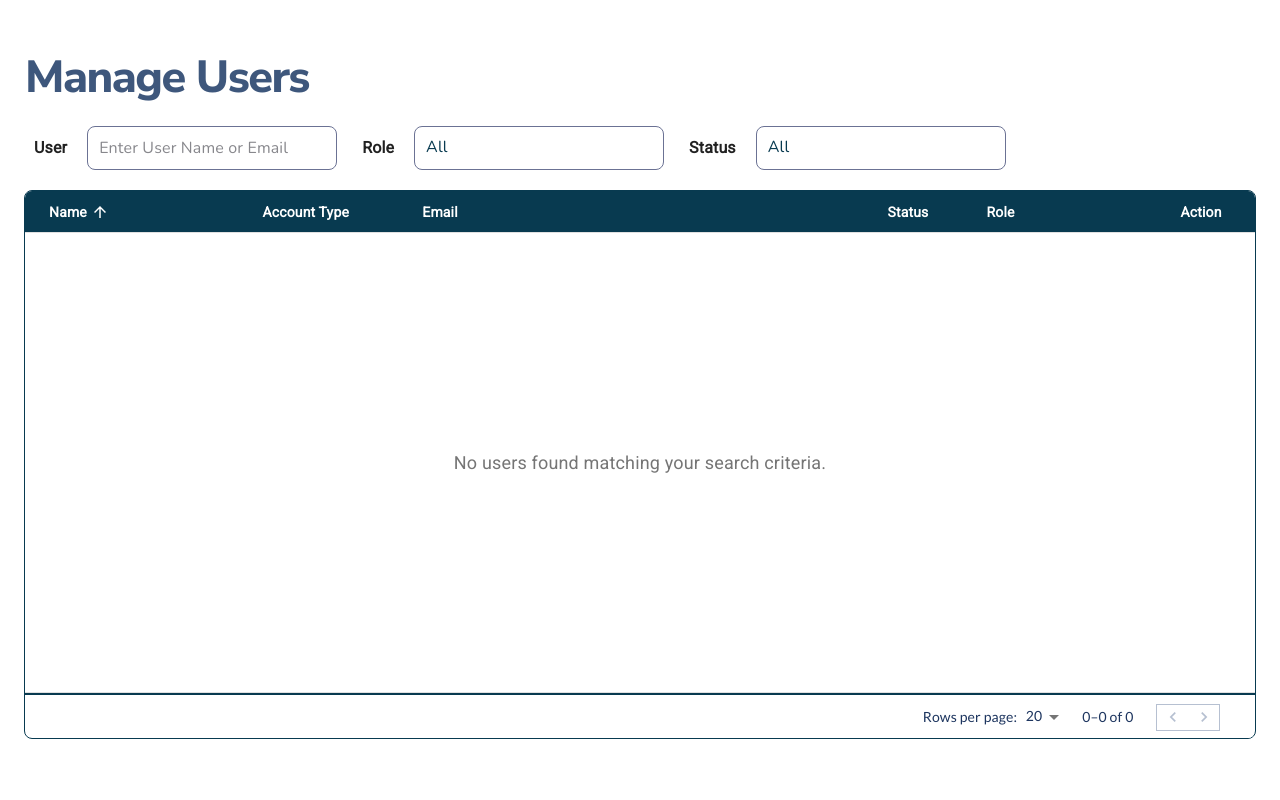
Test: Implementation Requirements › should not filter until at least 3 characters are entered
Type "Us" into the field with placeholder "Enter User Name or Email". click: (212, 148)
box: [87,126,337,170]
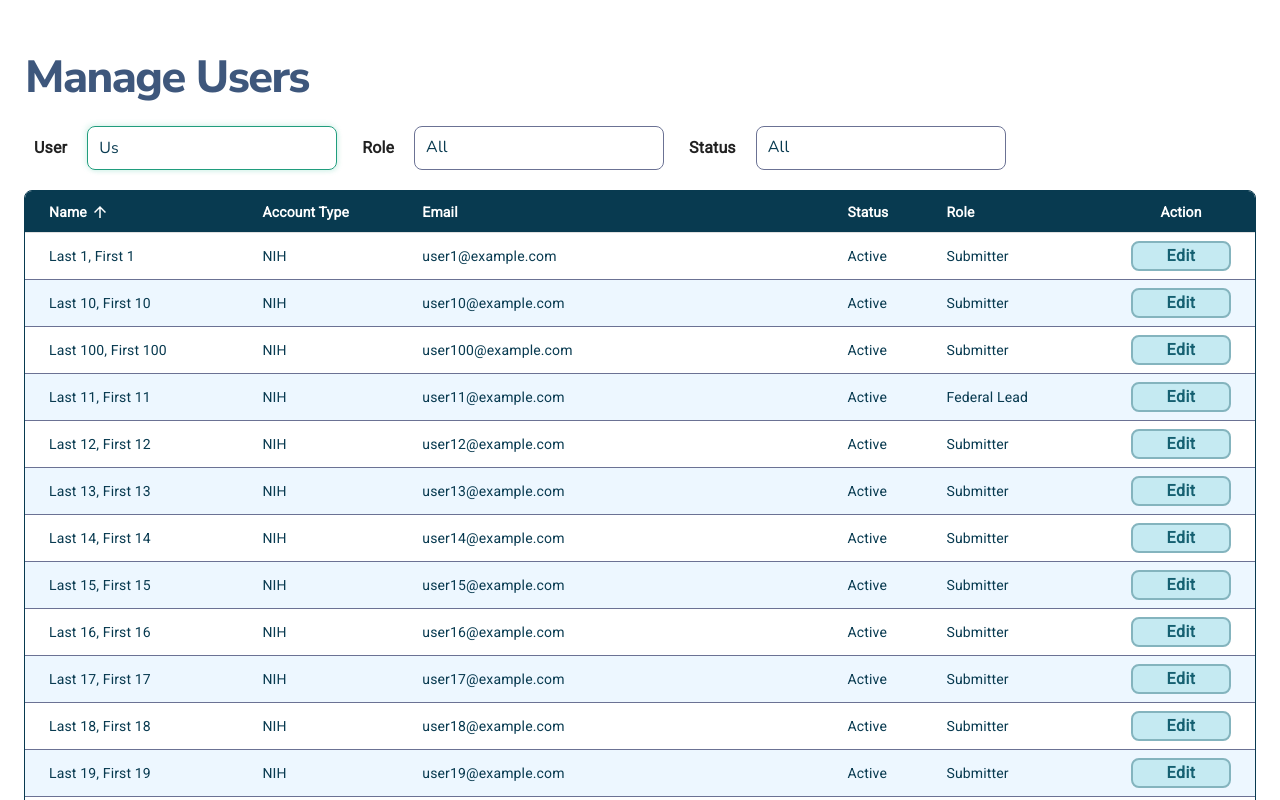
Check: the row with test id "generic-table-row" that starts with "Last 1, First 1" is shown, box [25,233,1255,280]
